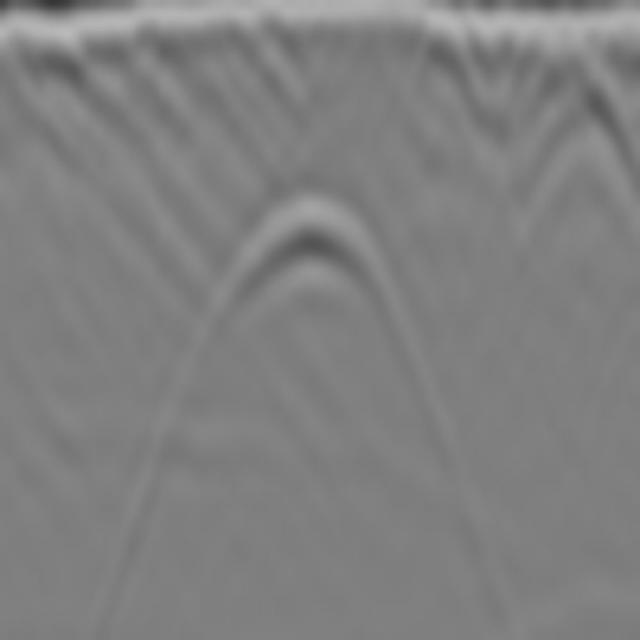hyperbola: (195, 178, 431, 386)
